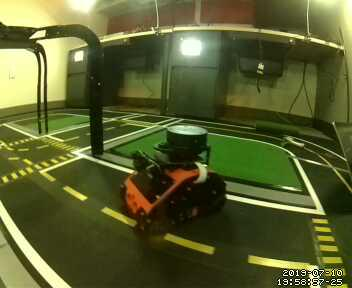pheeno: (119, 119, 234, 242)
